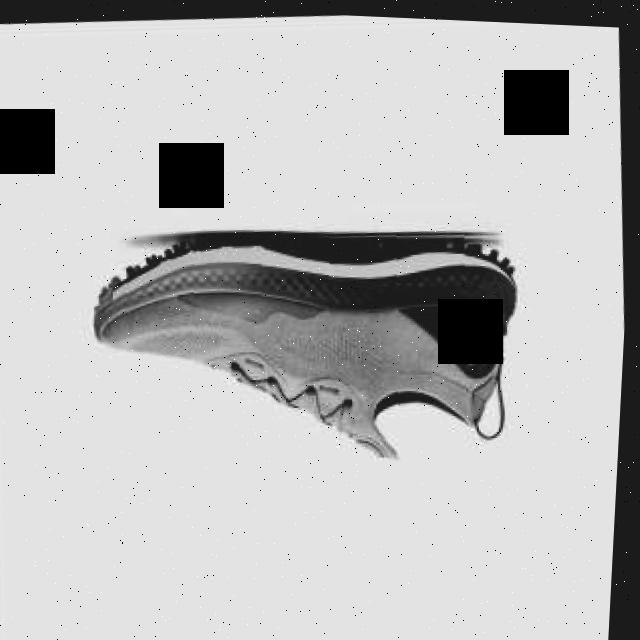shoe: (85, 208, 534, 478)
